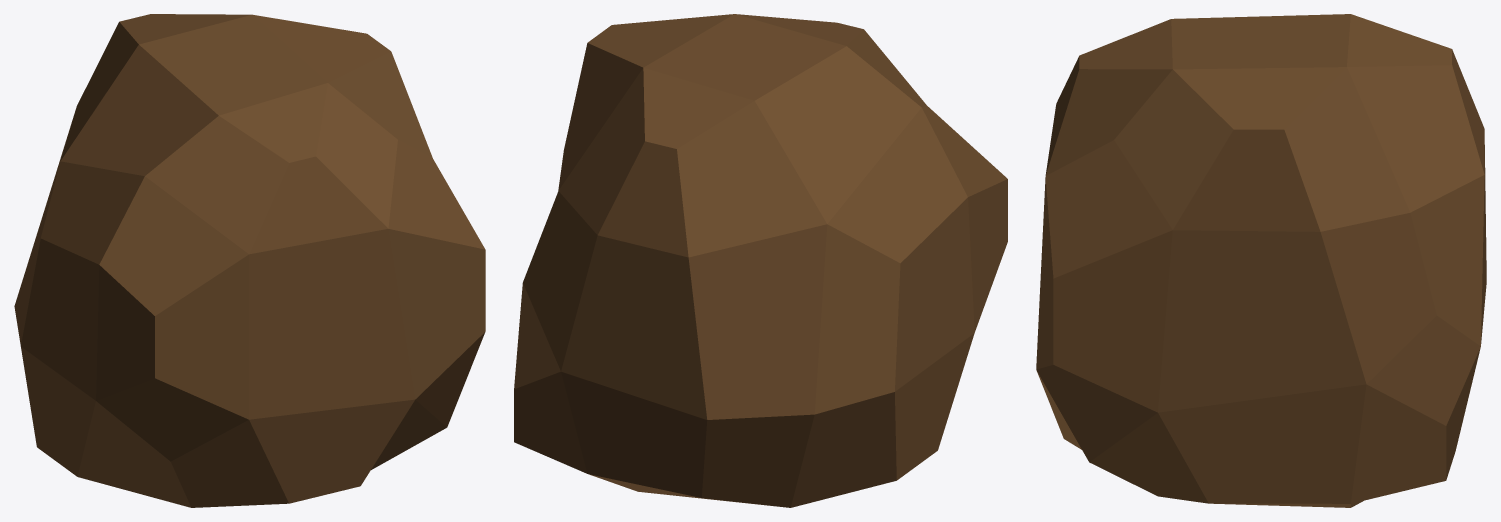
File: Stone_8.glb
3 views of the same model, side by side, from view 1: azimuth 30°, elevation 25°; view 2: azimuth 150°, elevation 25°; view 3: azimuth 270°, elevation 25° (orthographic). The views are drawn at different scales.
Visible parts, largest first — view 1: Stone_08; view 2: Stone_08; view 3: Stone_08.
Part boxes in pixels (bbox=[...]): Stone_08: bbox=[14, 14, 485, 507]; Stone_08: bbox=[514, 14, 1007, 507]; Stone_08: bbox=[1036, 14, 1486, 507].
Size of the model in its own units: 0.1321 by 0.1548 by 0.1439.
